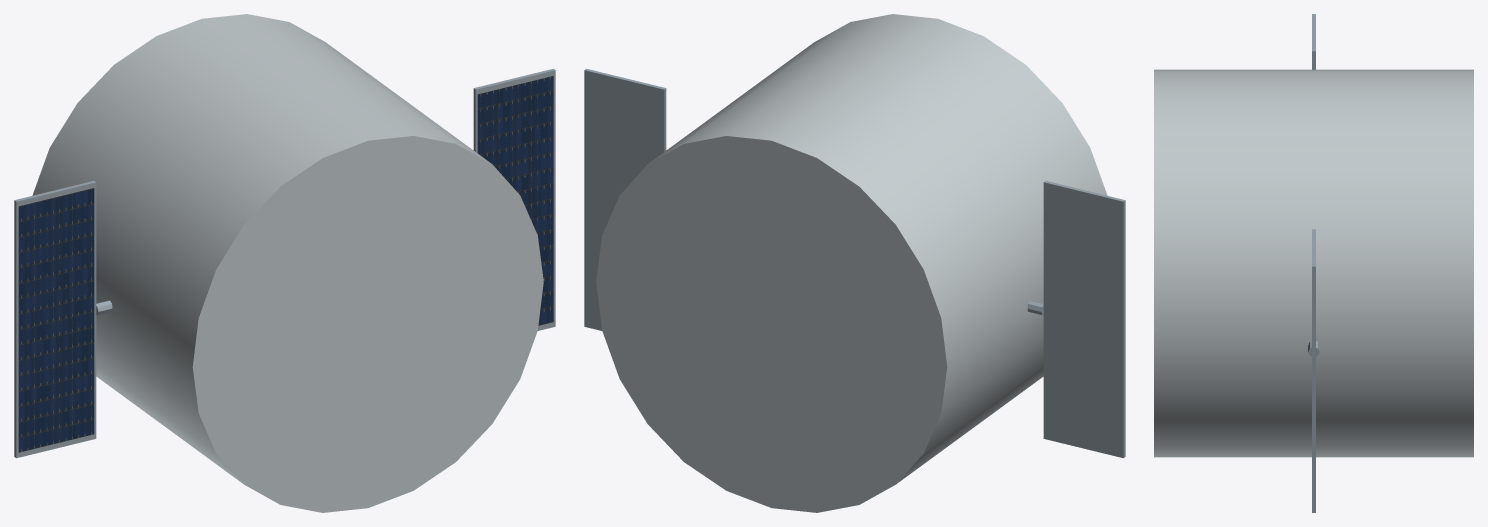
Rendered from ref-shenzhou-om-26687.glb.
3 views of the same model, side by side, from view 1: azimuth 30°, elevation 25°; view 2: azimuth 150°, elevation 25°; view 3: azimuth 270°, elevation 25° (orthographic). The views are drawn at different scales.
Parts seen in each view (by area): view 1: Spacecraft body, Photovoltaic laminates (×2), Array frame (×2); view 2: Spacecraft body, Array frame (×2); view 3: Spacecraft body, Array frame.
Boxes of the visible parts, x1=… form: Spacecraft body: x1=32, y1=14, x2=543, y2=512; Photovoltaic laminates (×2): x1=18, y1=76, x2=553, y2=452; Array frame (×2): x1=14, y1=68, x2=555, y2=458; Spacecraft body: x1=596, y1=14, x2=1107, y2=512; Array frame (×2): x1=584, y1=68, x2=1125, y2=458; Spacecraft body: x1=1154, y1=69, x2=1473, y2=457; Array frame: x1=1312, y1=229, x2=1315, y2=512.
Size of the model in its own units: 4.3 by 2.8 by 2.3.
Materials: 3 (1 with a texture image).
